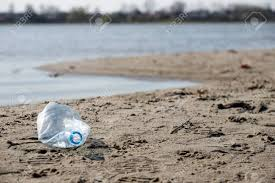plastic_bottle: (36, 101, 90, 148)
